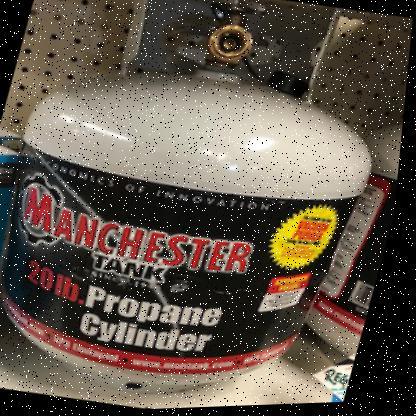gas-tank: (0, 0, 411, 415), (282, 79, 408, 397)
